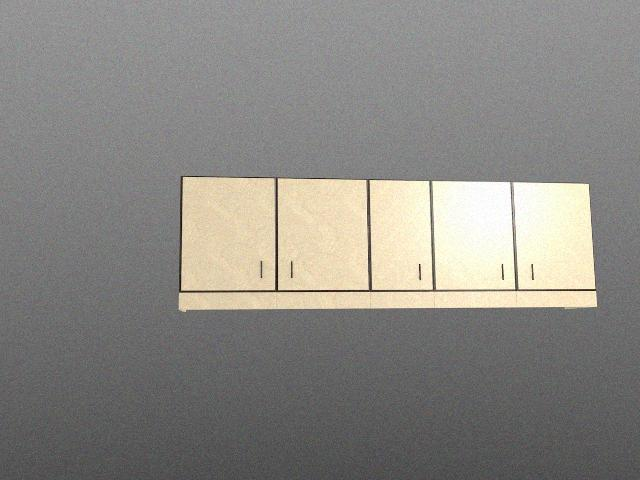cabinet_door: (180, 177, 276, 290), (276, 178, 369, 290), (432, 181, 516, 289), (516, 182, 592, 288), (369, 180, 432, 290)
handle: (285, 257, 300, 283), (254, 255, 268, 281), (525, 261, 539, 284), (414, 261, 426, 285), (496, 262, 509, 283)
